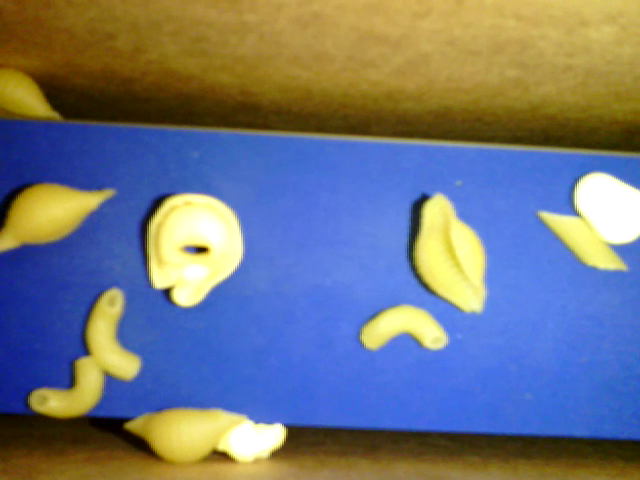elbow: (84, 284, 142, 384), (27, 353, 104, 422), (355, 303, 448, 357)
penne: (535, 211, 629, 273)
shell: (405, 191, 487, 317), (3, 183, 117, 255), (122, 407, 247, 465), (3, 67, 64, 123)
tortellini: (142, 191, 245, 309)
